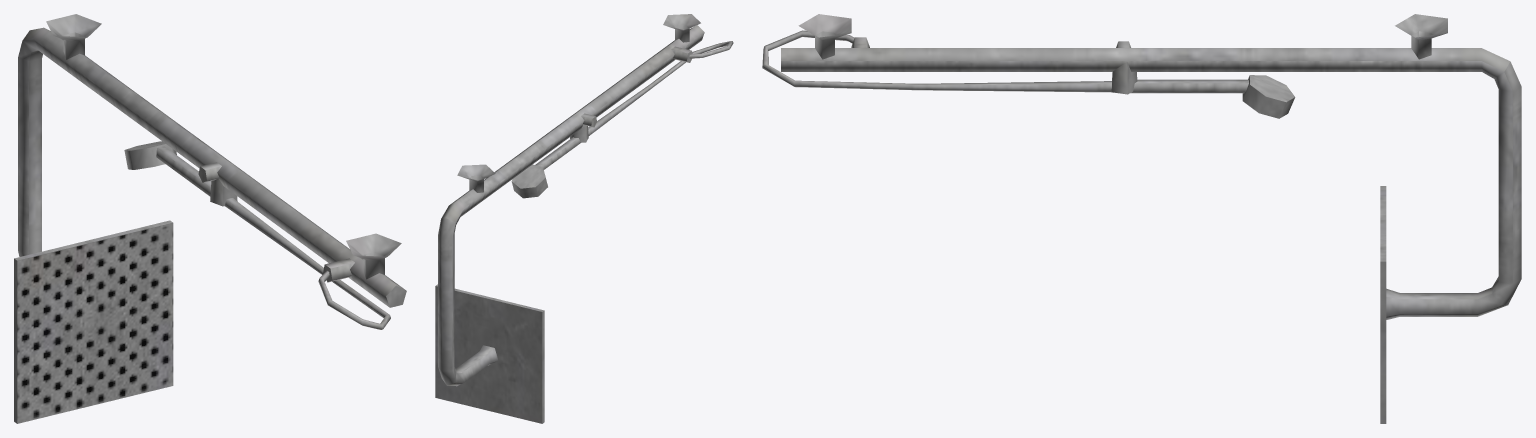
File: Watering_can_05.glb
3 renders of one model, left to right at view 1: azimuth 30°, elevation 25°; view 2: azimuth 150°, elevation 25°; view 3: azimuth 270°, elevation 25°, orthographic. The views are drawn at different scales.
Visible parts, largest first — view 1: Watering_can_05; view 2: Watering_can_05; view 3: Watering_can_05.
Part boxes in pixels (x1=…): Watering_can_05: x1=14, y1=14, x2=406, y2=423; Watering_can_05: x1=435, y1=14, x2=733, y2=423; Watering_can_05: x1=762, y1=14, x2=1521, y2=423.
Size of the model in its own units: 0.3633 by 0.8064 by 1.54.
Materials: 2 (2 with a texture image).
